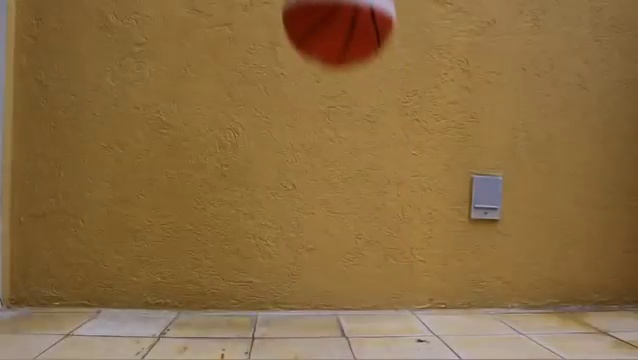ball: (282, 1, 399, 67)
